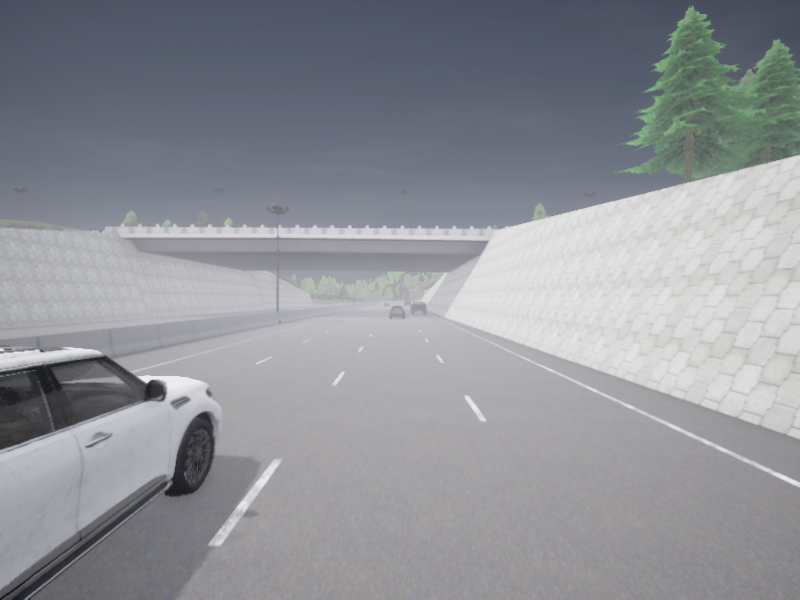vehicle: (0, 346, 220, 599), (410, 301, 425, 313), (390, 306, 404, 317), (404, 300, 411, 306), (384, 302, 389, 306)
